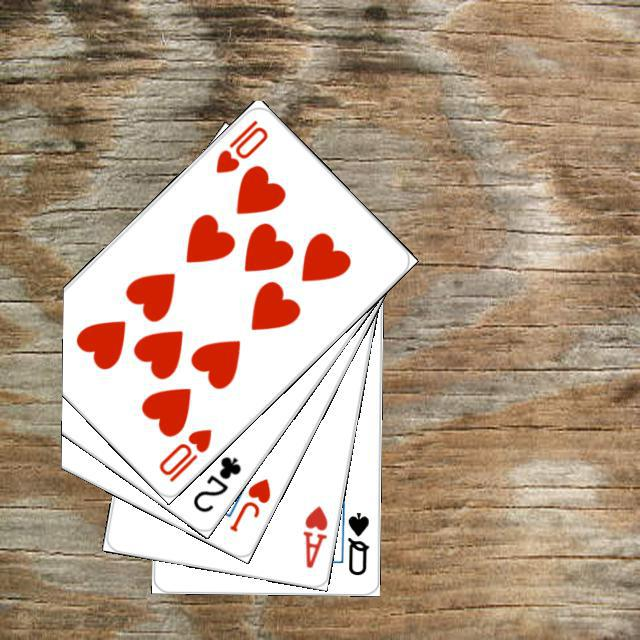10h: (210, 114, 270, 176), (154, 423, 214, 484)
2c: (187, 451, 244, 515)
Ah: (298, 500, 330, 570)
Jh: (224, 473, 273, 534)
Qs: (342, 508, 371, 577)
